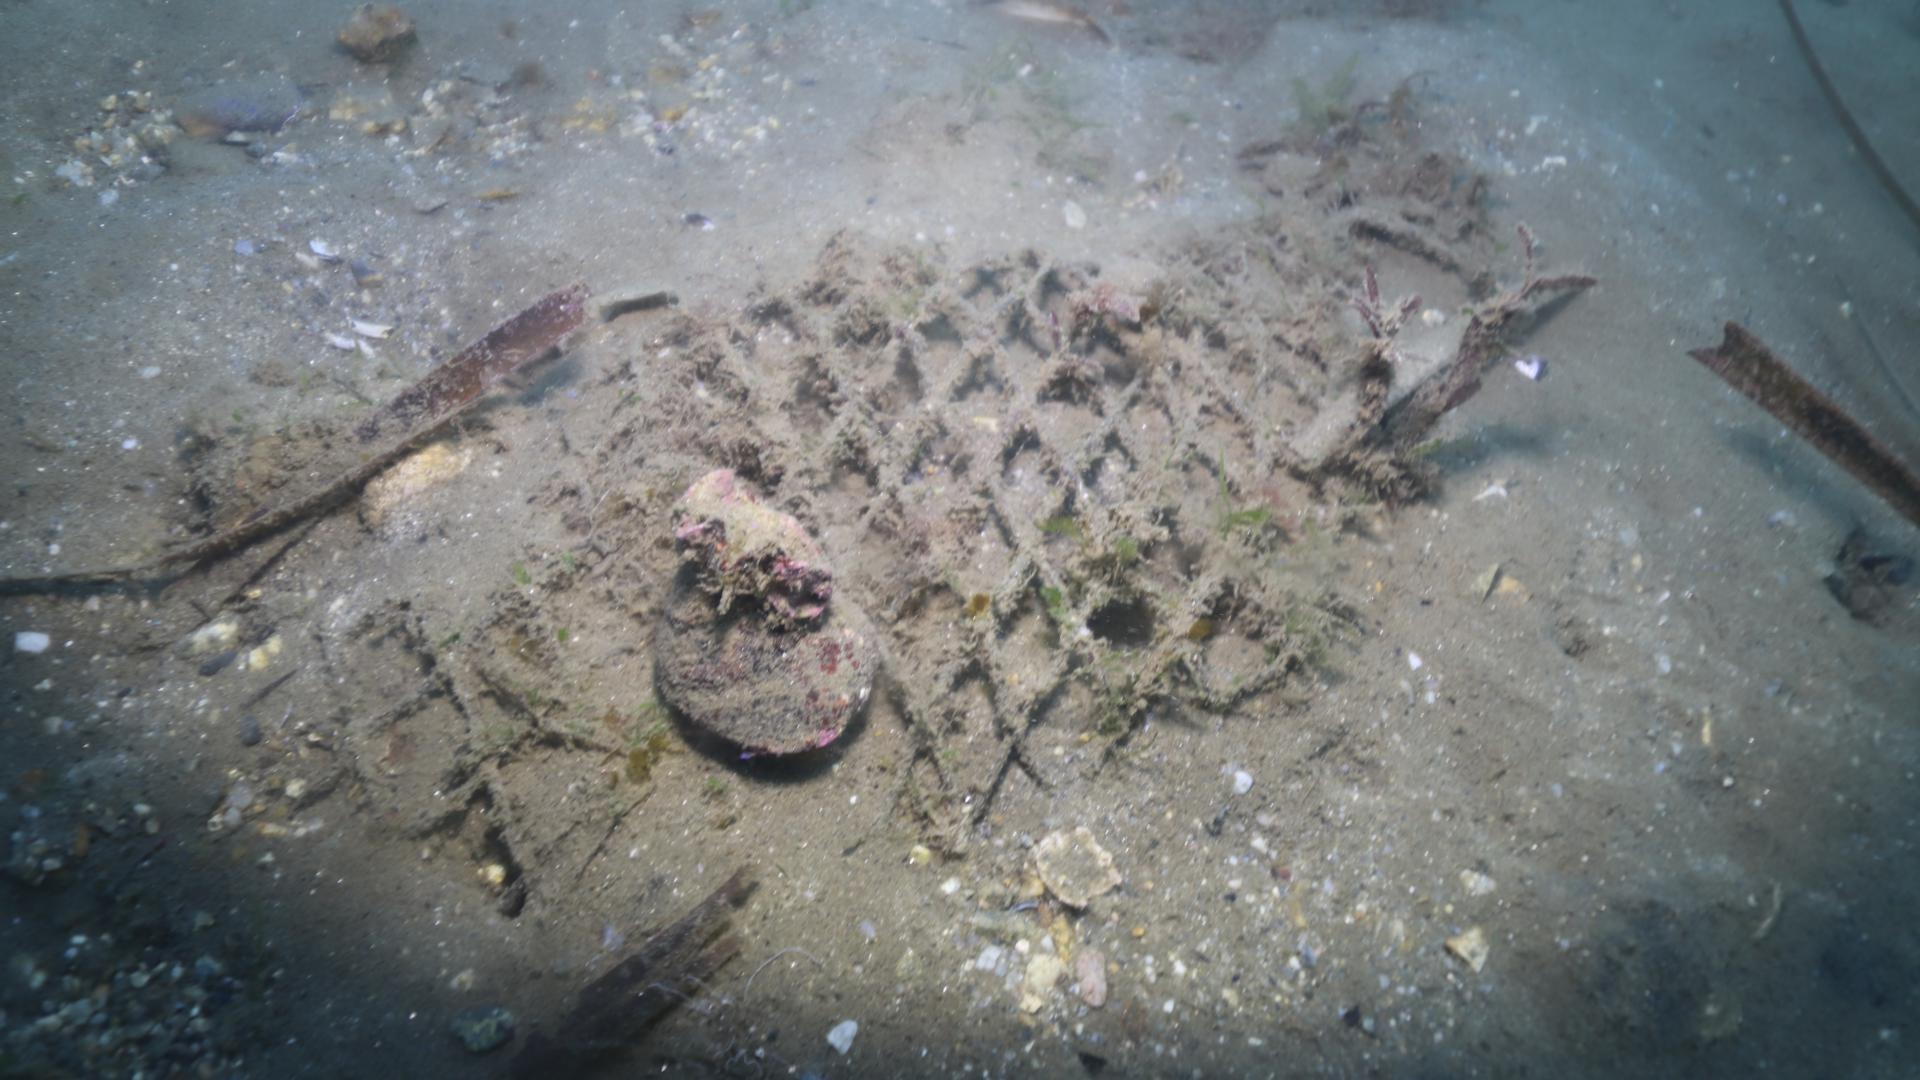fish net: (302, 251, 1346, 916)
